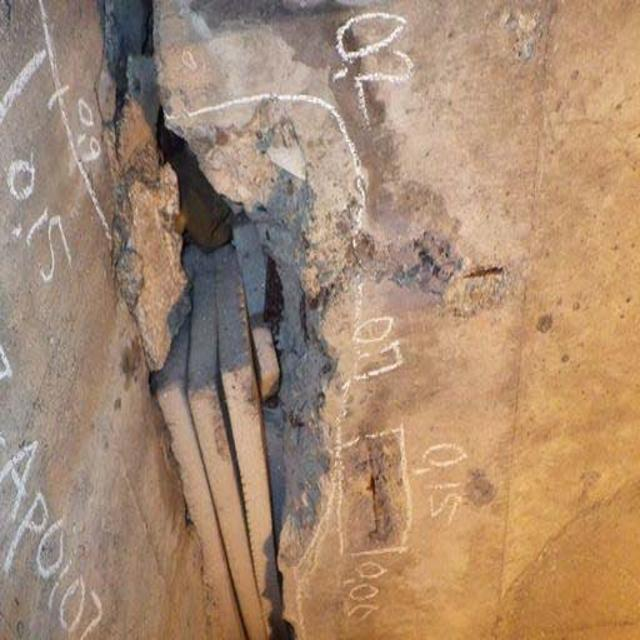spalling: (103, 74, 443, 580)
